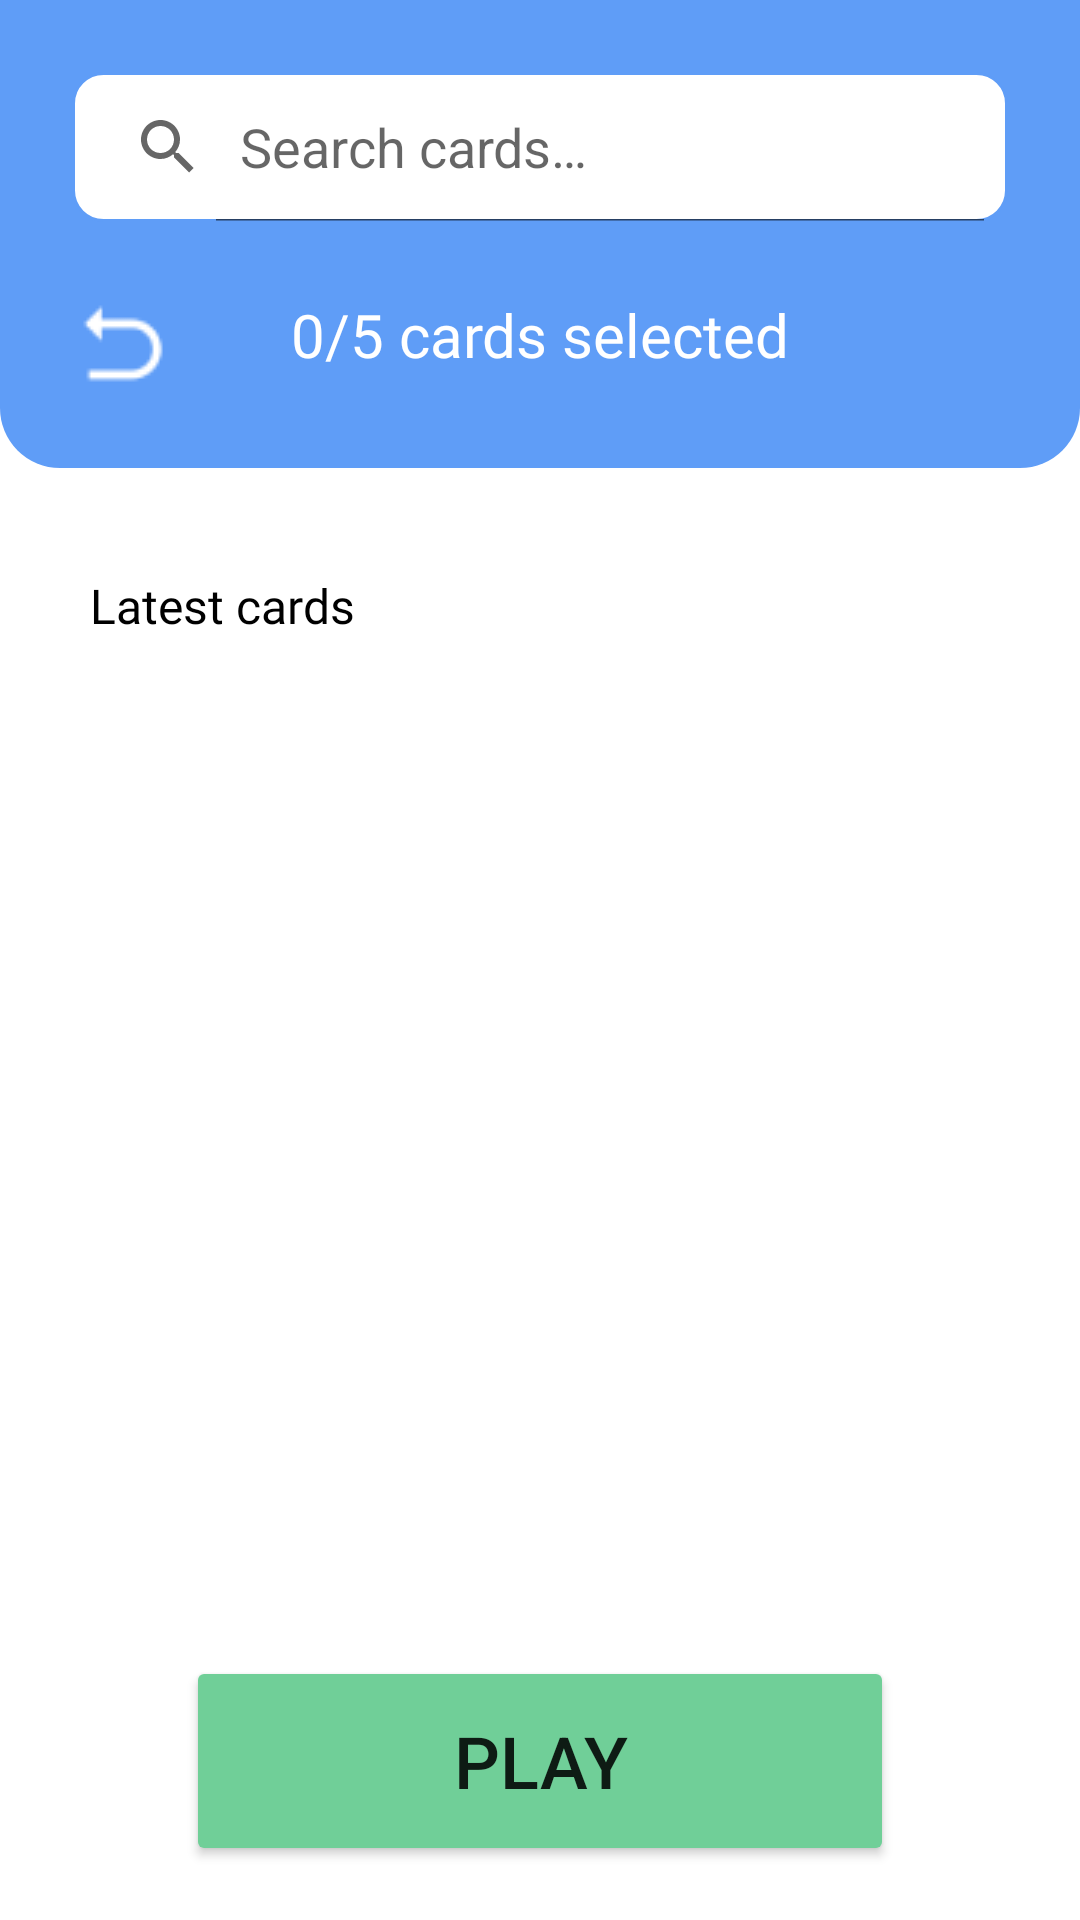

Screen size 1080 x 1920. Icon name, then its center in pixels as [x,y]:
back: [123,343]
